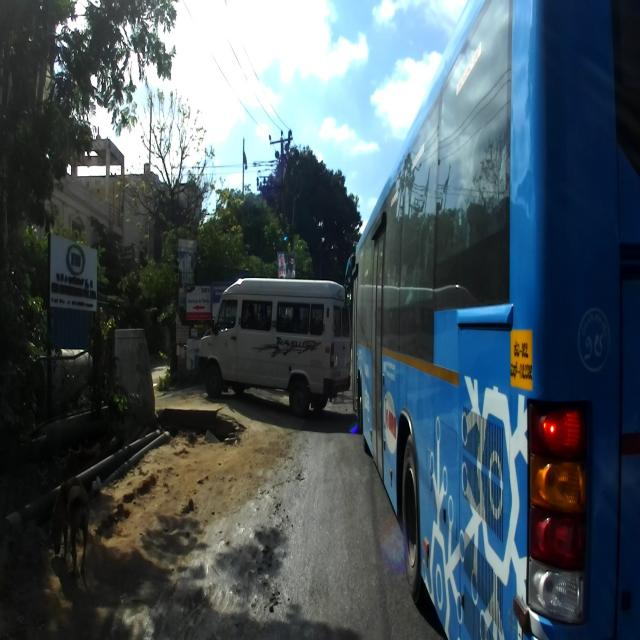bus: (347, 0, 640, 635)
mini-bus: (196, 275, 351, 413)
